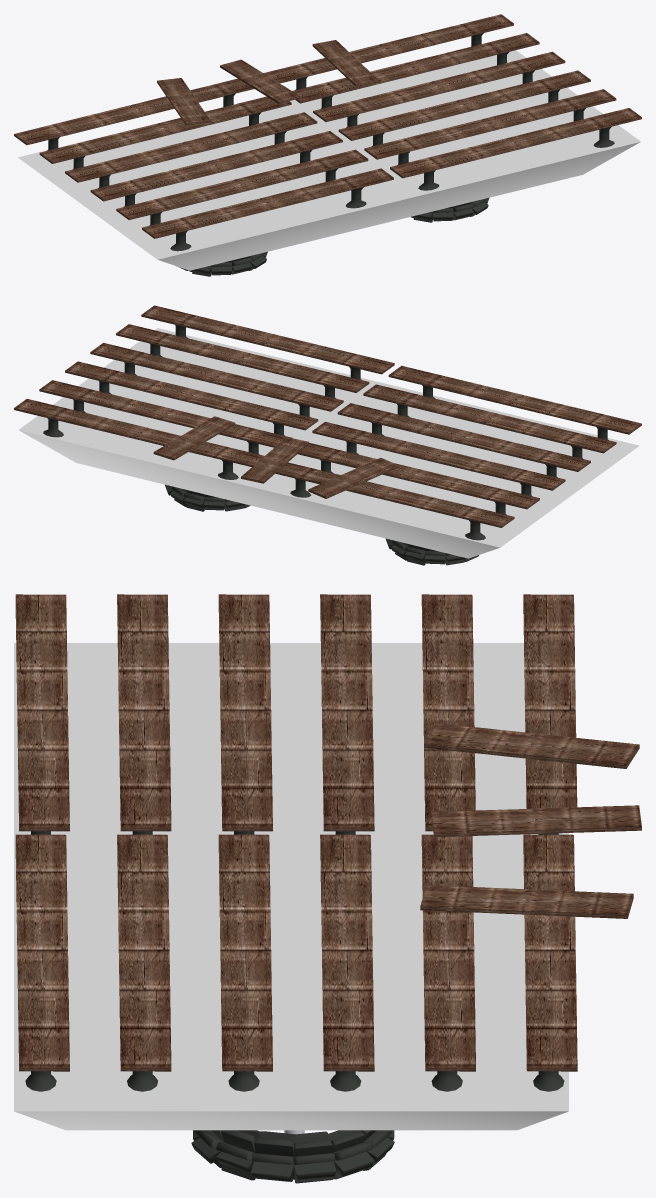
Rendered from connector.fbx.
3 renders of one model, top to bottom at view 1: azimuth 30°, elevation 25°; view 2: azimuth 150°, elevation 25°; view 3: azimuth 270°, elevation 25°, orthographic. The views are drawn at different scales.
Parts seen in each view (by area): view 1: base, 06, 03, 05, 04, 02, 01, gravityring, planke_m, planke_l, planke_r; view 2: base, 06, 05, 03, 04, 01, 02, gravityring, planke_r, planke_l, planke_m; view 3: base, 03, 06, 05, 04, 02, 01, gravityring, planke_l, planke_r, planke_m.
Part boxes in pixels (x1,y1,x2,y2): base: (18, 50, 640, 270); 06: (142, 108, 641, 251); 03: (65, 51, 565, 188); 05: (116, 89, 616, 225); 04: (90, 70, 590, 206); 02: (39, 33, 539, 169); 01: (14, 14, 513, 150); gravityring: (178, 197, 489, 276); planke_m: (220, 59, 300, 103); planke_l: (312, 40, 379, 86); planke_r: (157, 78, 210, 125); base: (18, 328, 639, 558); 06: (141, 305, 641, 440); 05: (116, 324, 616, 458); 03: (65, 361, 565, 495); 04: (90, 343, 590, 477); 01: (14, 399, 514, 540); 02: (39, 380, 539, 514); gravityring: (165, 484, 479, 565); planke_r: (308, 458, 398, 498); planke_l: (153, 416, 235, 460); planke_m: (241, 437, 308, 483); base: (14, 643, 568, 1130); 03: (320, 594, 374, 1091); 06: (15, 594, 69, 1091); 05: (117, 594, 171, 1091); 04: (218, 594, 272, 1091); 02: (421, 594, 475, 1091); 01: (523, 594, 577, 1091); gravityring: (191, 1130, 394, 1183); planke_l: (420, 885, 633, 918); planke_r: (424, 723, 639, 768); planke_m: (431, 805, 641, 837).
Size of what is drawn, in the model's own units: 110 by 24.62 by 61.84.
4 materials, 1 textured.
